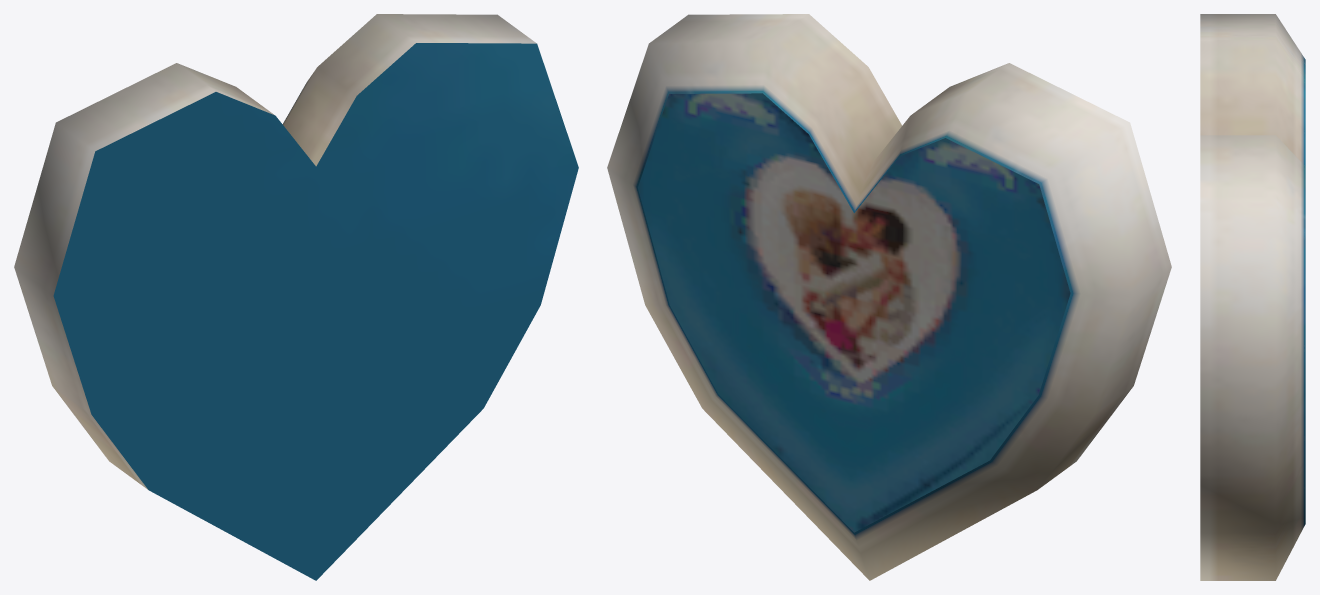
The model's file is furni_0200134_03.FBX.
3 views of the same model, side by side, from view 1: azimuth 30°, elevation 25°; view 2: azimuth 150°, elevation 25°; view 3: azimuth 270°, elevation 25° (orthographic). The views are drawn at different scales.
Visible parts, largest first — view 1: furni_0200134_01; view 2: furni_0200134_01; view 3: furni_0200134_01.
Boxes of the visible parts, bbox=[...] form: furni_0200134_01: bbox=[14, 14, 578, 580]; furni_0200134_01: bbox=[607, 14, 1171, 580]; furni_0200134_01: bbox=[1200, 14, 1305, 580].
Size of the model in its own units: 53.73 by 50.2 by 9.74.
Materials: 1 (1 with a texture image).
